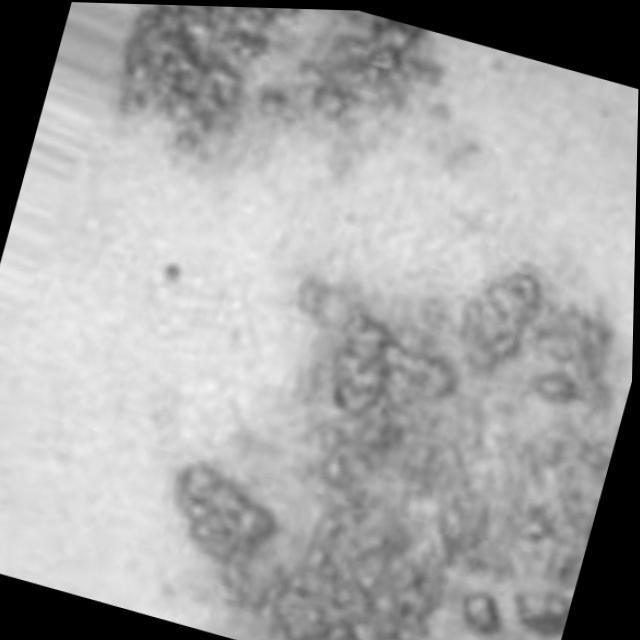Shingles: (144, 207, 636, 640), (96, 3, 445, 197)
